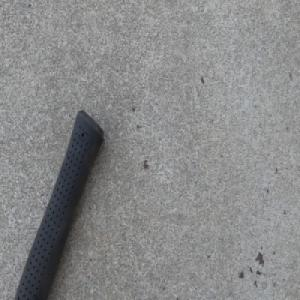Hammer: (10, 107, 106, 300)
